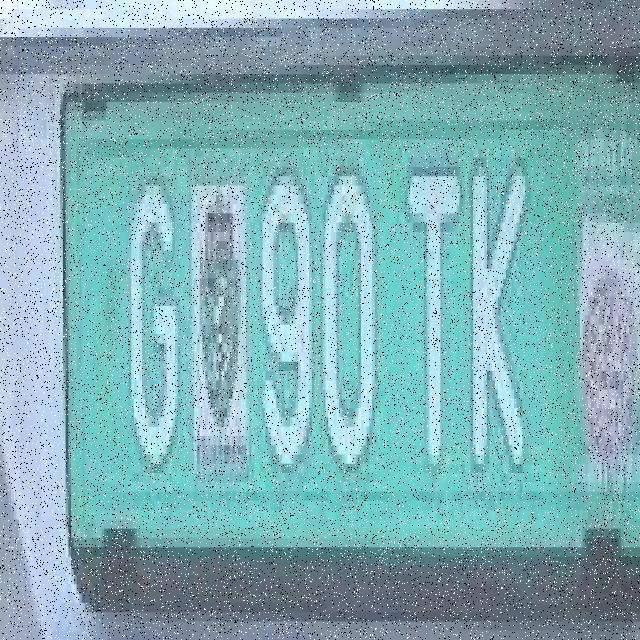LicensePlate: (39, 64, 640, 640)
